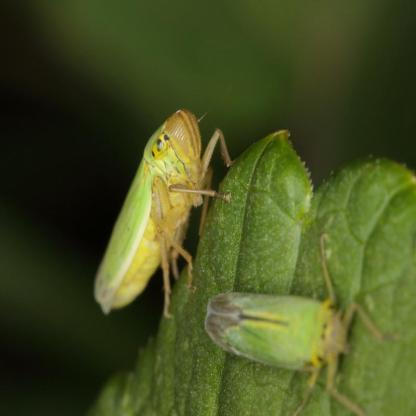Green-Leafhopper: (88, 106, 227, 320), (204, 253, 366, 411)
